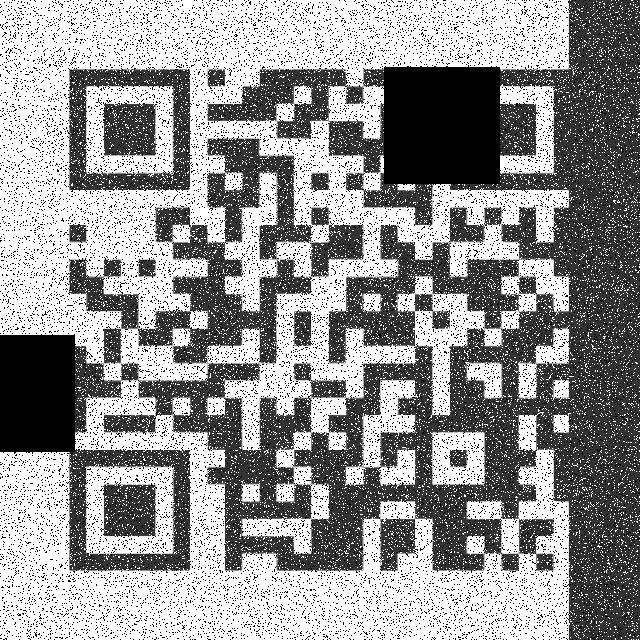QR_CODE: (52, 50, 586, 592)
